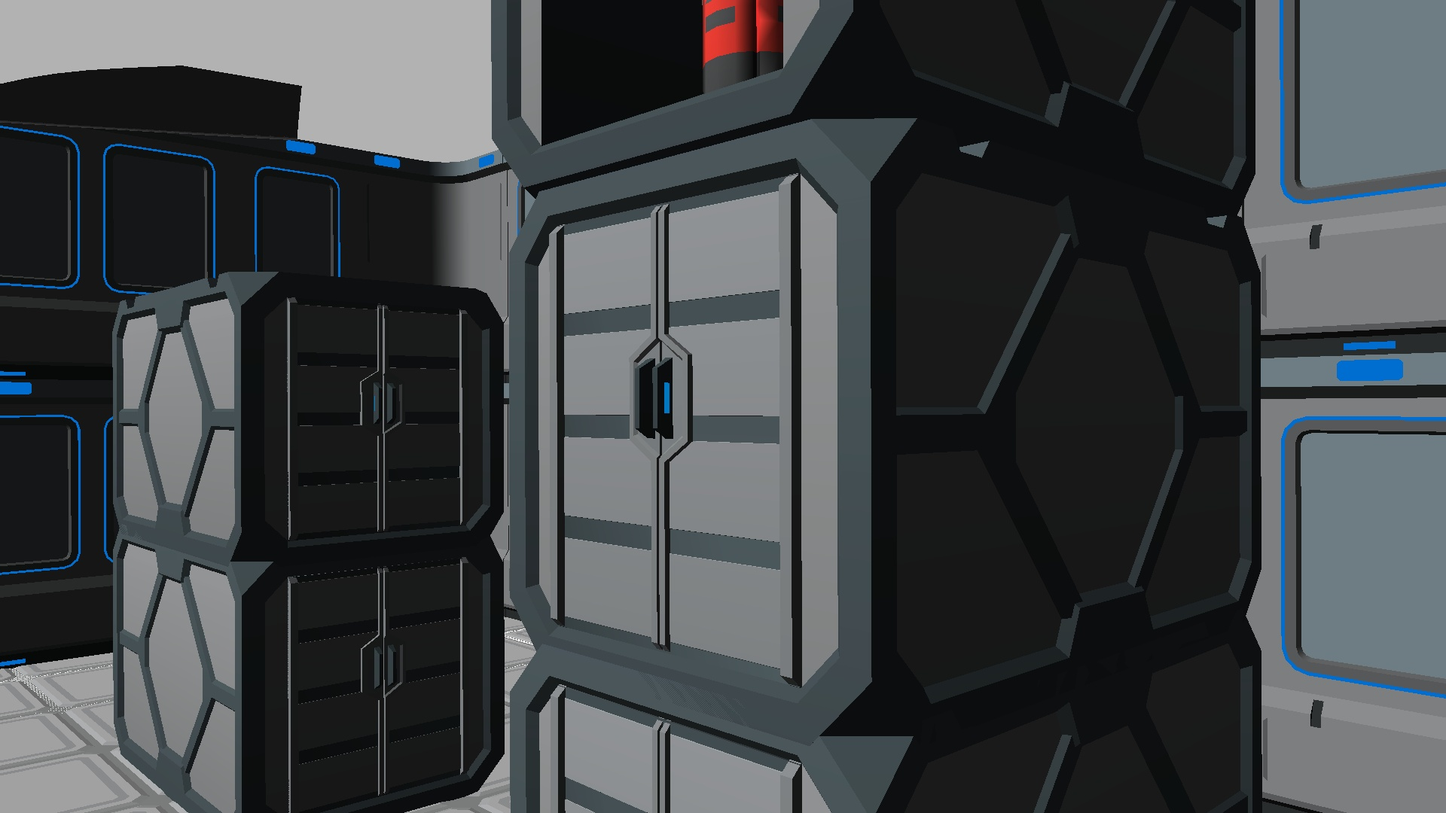red barrel: (702, 0, 783, 93)
